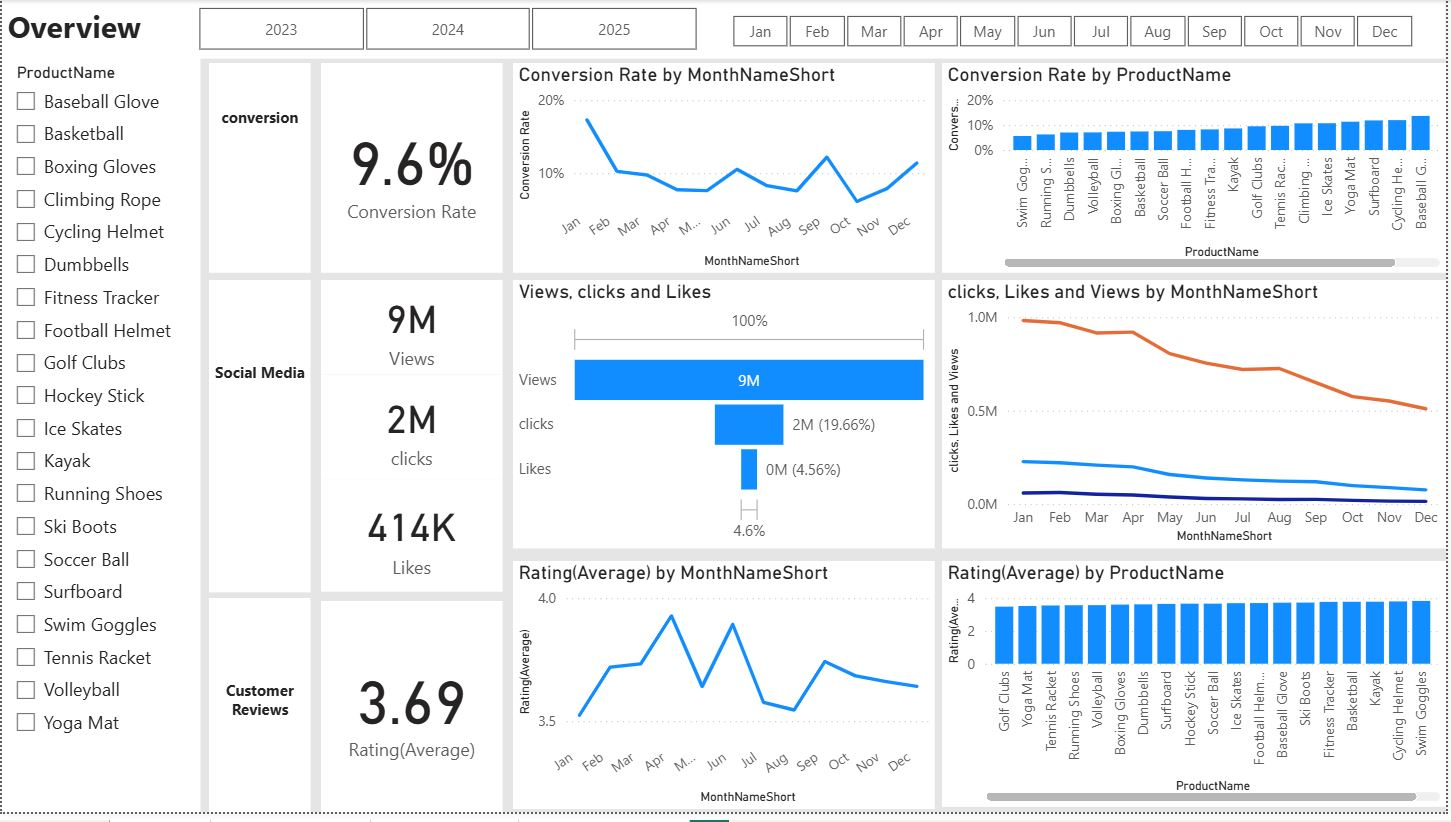

What the dashboard file says about the page in this screenshot:
{"tool":"powerbi","page":{"name":"OVERVIEW","canvas":[1280,720],"ordinal":0},"visuals":[{"type":"textbox","box":[0,0,1280.4,52.3],"z":0},{"type":"slicer","fields":{"Values":["dm_products.ProductName"]},"box":[0,51.3,175.9,669.3],"z":1000},{"type":"textbox","box":[183.5,55.9,90.4,186.2],"z":2000},{"type":"textbox","box":[183.5,248.3,90.4,276.7],"z":3000},{"type":"textbox","box":[183.5,530.2,90.4,189.8],"z":4000},{"type":"card","fields":{"Values":["_Calculations.Conversion Rate"]},"box":[282.9,55.9,161.4,186.2],"z":5000},{"type":"card","fields":{"Values":["_Calculations.Views"]},"box":[282.9,248.3,161.4,84.2],"z":6000},{"type":"card","fields":{"Values":["_Calculations.clicks"]},"box":[282.9,332.5,161.4,93.1],"z":7000},{"type":"card","fields":{"Values":["_Calculations.Likes"]},"box":[282.9,425.6,161.4,99.3],"z":8000},{"type":"card","fields":{"Values":["_Calculations.Rating(Average)"]},"box":[282.9,532.9,161.4,187.1],"z":9000},{"type":"slicer","fields":{"Values":["Calendar.Year"]},"box":[149,0,491,51.3],"z":10000},{"type":"slicer","fields":{"Values":["Calendar.MonthNameShort"]},"box":[622.5,7.1,651.7,37.2],"z":11000},{"type":"lineChart","fields":{"Y":["_Calculations.Conversion Rate"],"Category":["Calendar.MonthNameShort"]},"box":[453.1,55.9,374.2,186.2],"z":12000},{"type":"clusteredColumnChart","fields":{"Y":["_Calculations.Conversion Rate"],"Category":["dm_products.ProductName"]},"box":[833.5,55.9,446.9,186.2],"z":13000},{"type":"lineChart","fields":{"Category":["Calendar.MonthNameShort"],"Y":["_Calculations.clicks","_Calculations.Likes","_Calculations.Views"]},"box":[833.5,248.3,446.9,237.6],"z":14000},{"type":"funnel","fields":{"Y":["_Calculations.Views","_Calculations.clicks","_Calculations.Likes"]},"box":[453.1,248.3,374.2,237.6],"z":15000},{"type":"lineChart","fields":{"Y":["_Calculations.Rating(Average)"],"Category":["Calendar.MonthNameShort"]},"box":[453.1,497.4,374.2,219.9],"z":16000},{"type":"clusteredColumnChart","fields":{"Category":["dm_products.ProductName"],"Y":["_Calculations.Rating(Average)"]},"box":[833.5,497.4,446.9,218.1],"z":17000}]}

Visuals, with their boxes in screenshot pixels (x1, y1, x2, y2), scaled from the page's 1280x720 canvas onto the 1451x822 screenshot:
textbox: x1=0, y1=0, x2=1450, y2=60
slicer - dm_products.ProductName: x1=0, y1=59, x2=199, y2=821
textbox: x1=208, y1=64, x2=310, y2=276
textbox: x1=208, y1=283, x2=310, y2=599
textbox: x1=208, y1=605, x2=310, y2=821
card - _Calculations.Conversion Rate: x1=321, y1=64, x2=504, y2=276
card - _Calculations.Views: x1=321, y1=283, x2=504, y2=380
card - _Calculations.clicks: x1=321, y1=380, x2=504, y2=486
card - _Calculations.Likes: x1=321, y1=486, x2=504, y2=599
card - _Calculations.Rating(Average): x1=321, y1=608, x2=504, y2=821
slicer - Calendar.Year: x1=169, y1=0, x2=726, y2=59
slicer - Calendar.MonthNameShort: x1=706, y1=8, x2=1444, y2=51
lineChart - _Calculations.Conversion Rate x Calendar.MonthNameShort: x1=514, y1=64, x2=938, y2=276
clusteredColumnChart - _Calculations.Conversion Rate x dm_products.ProductName: x1=945, y1=64, x2=1450, y2=276
lineChart - Calendar.MonthNameShort x _Calculations.clicks: x1=945, y1=283, x2=1450, y2=555
funnel - _Calculations.Views x _Calculations.clicks: x1=514, y1=283, x2=938, y2=555
lineChart - _Calculations.Rating(Average) x Calendar.MonthNameShort: x1=514, y1=568, x2=938, y2=819
clusteredColumnChart - dm_products.ProductName x _Calculations.Rating(Average): x1=945, y1=568, x2=1450, y2=817
